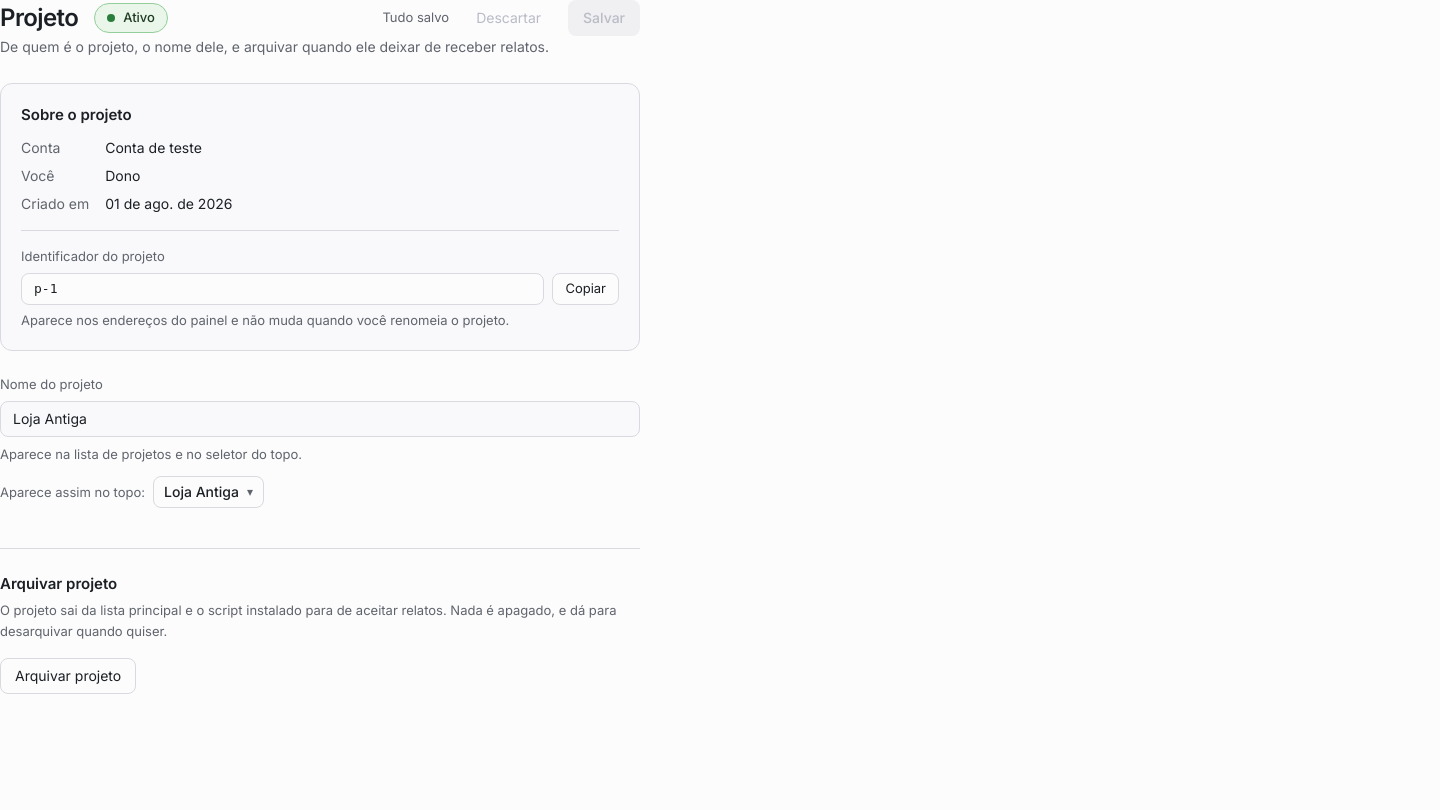
Test: ProjectSettingsScreen › arquivar está à vista, sem abrir nada, e pede confirmação
The image size is (1440, 810).
Expected: the field showing "Loja Antiga" is shown, [0,401,640,437]
Expected: the heading "Arquivar projeto" is shown, [0,574,117,593]
Click the button "Arquivar projeto": click(68, 676) [0,658,136,694]
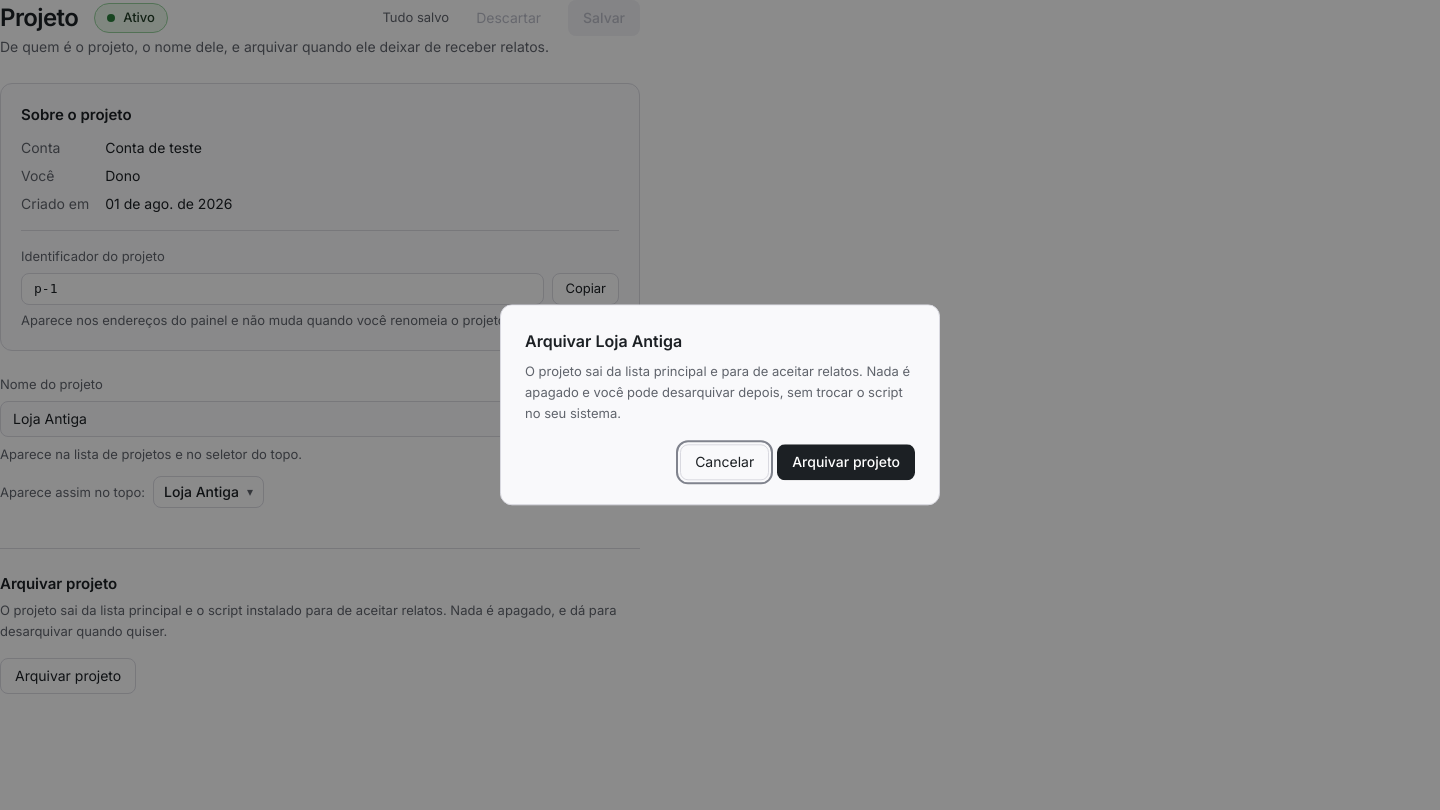
Result: the dialog "Arquivar Loja Antiga" is shown at [500,304,940,506]
